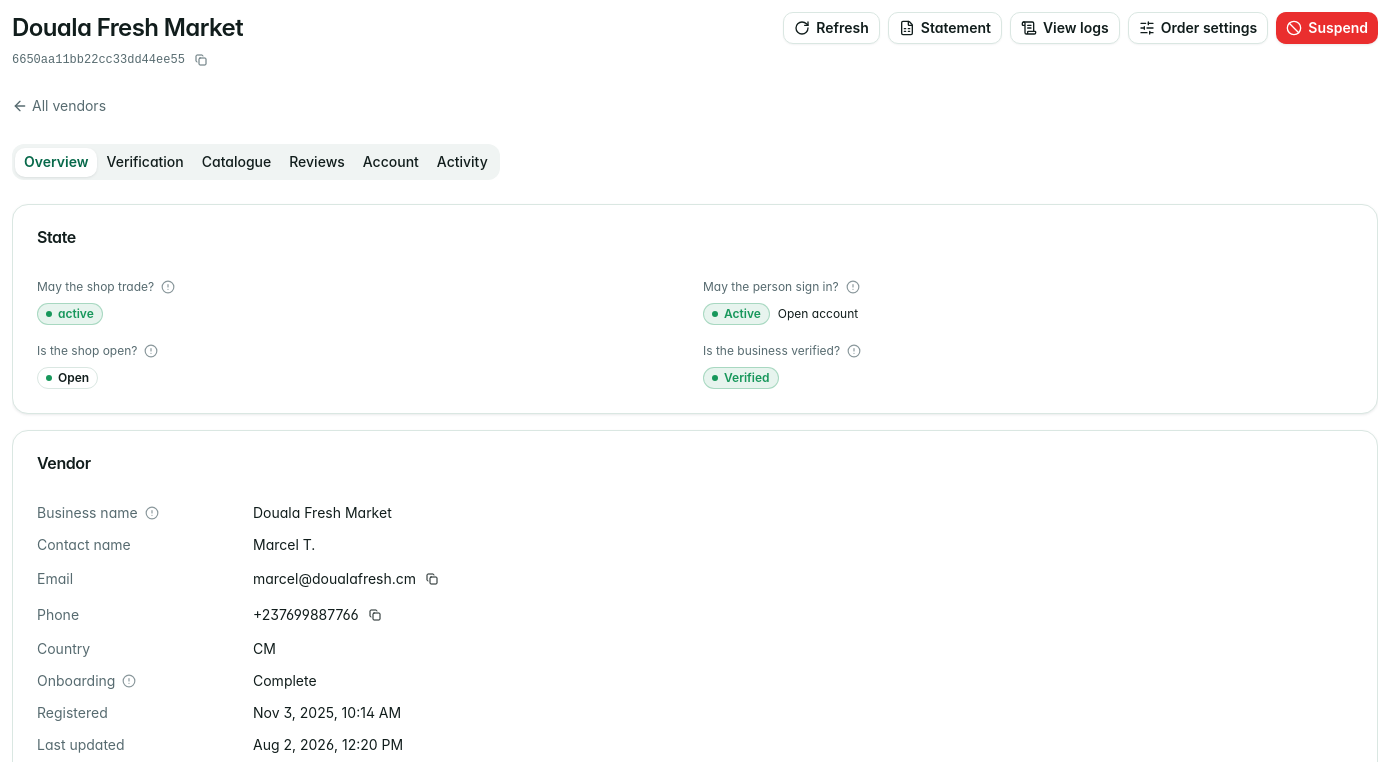
it: the account tab › renders the commission from the plan, since no vendor endpoint carries it
Click the tab "Account": point(391, 162) [354,148,428,176]
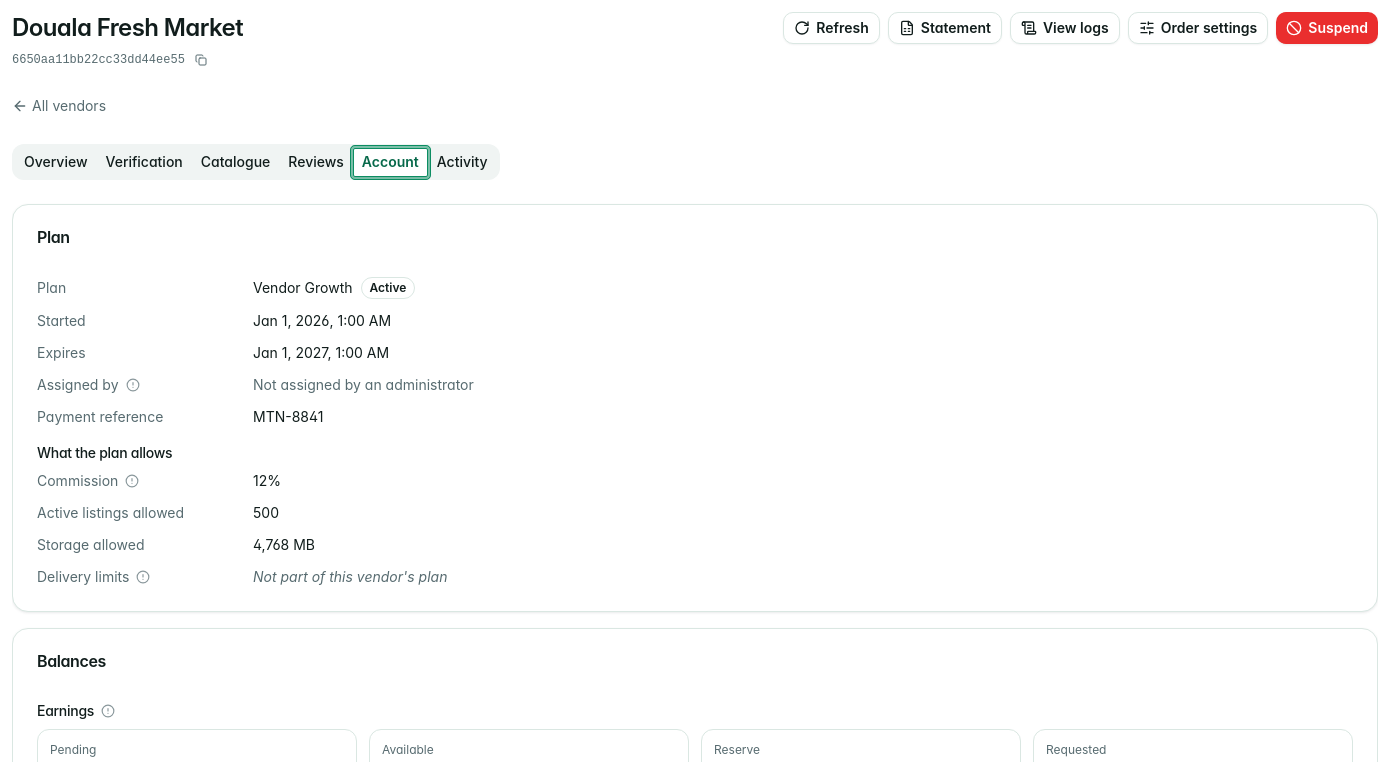
Check: the text "12%" is shown, box [253,472,281,489]
